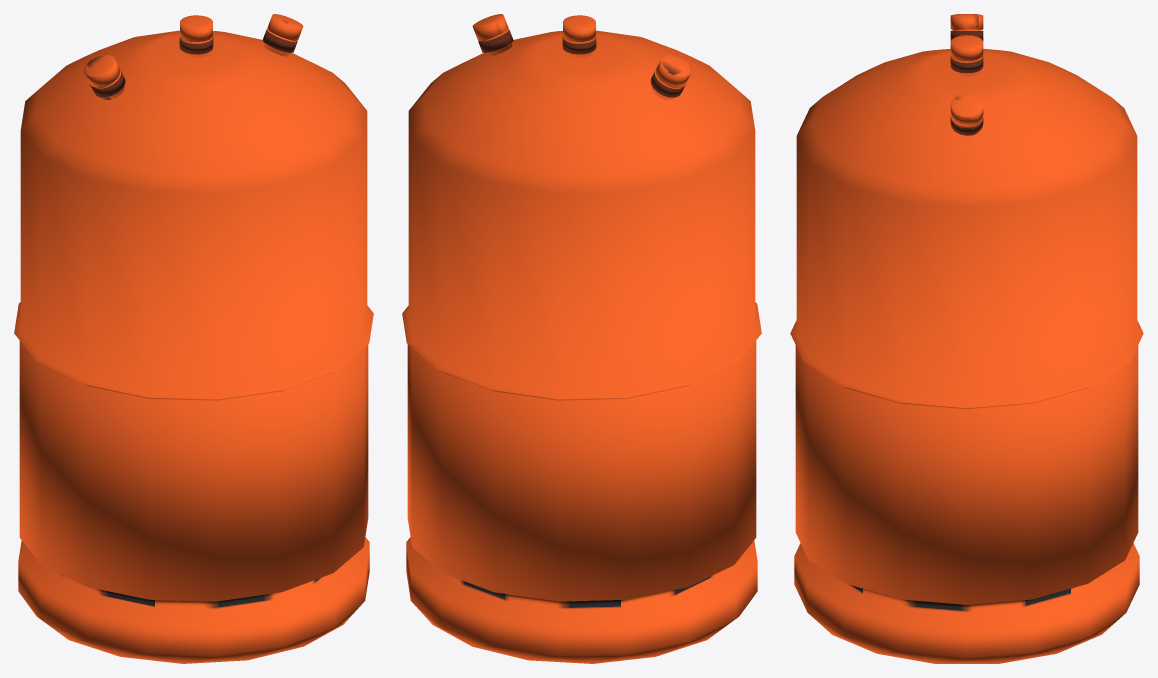
The model's file is butano.fbx.
3 renders of one model, left to right at view 1: azimuth 30°, elevation 25°; view 2: azimuth 150°, elevation 25°; view 3: azimuth 270°, elevation 25°, orthographic. The views are drawn at different scales.
Parts seen in each view (by area): view 1: Cylinder.002; view 2: Cylinder.002; view 3: Cylinder.002.
Part boxes in pixels (box(x1,y1,x2,y2)): Cylinder.002: box(14, 14, 373, 663); Cylinder.002: box(402, 14, 761, 663); Cylinder.002: box(790, 14, 1143, 663).
Bounding box in the file's own units: 32.14 × 55.93 × 32.14.
Materials: 1 (1 with a texture image).
